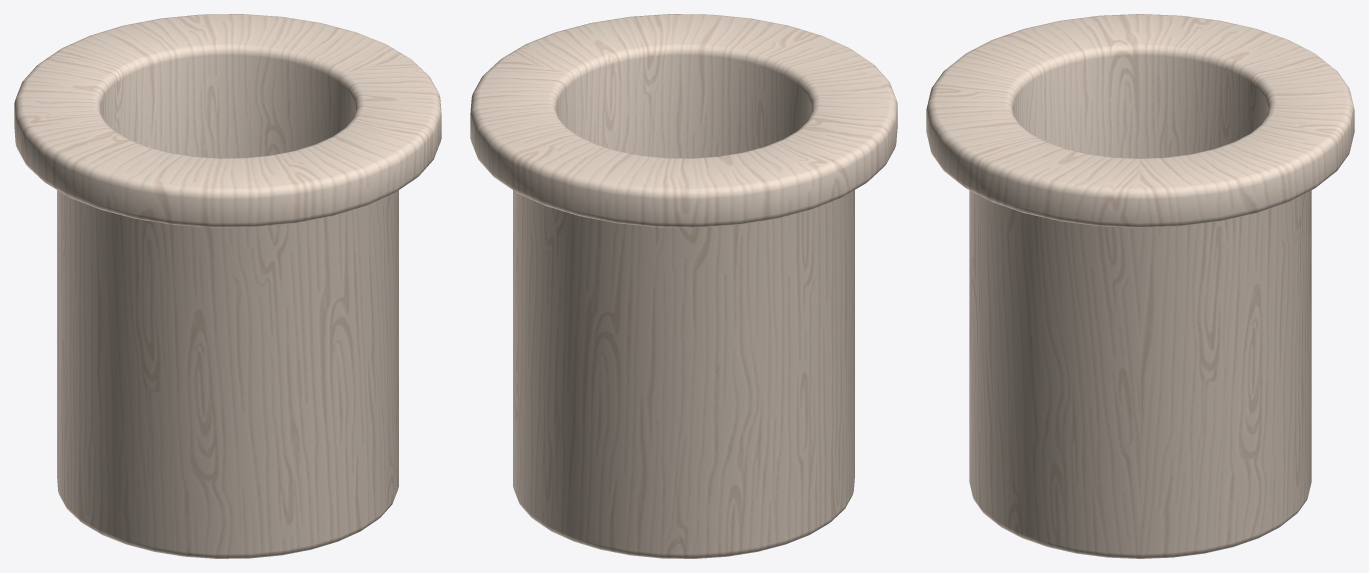
File: Pipe_Straight.fbx
The picture shows the model from 3 angles, left to right: view 1: azimuth 30°, elevation 25°; view 2: azimuth 150°, elevation 25°; view 3: azimuth 270°, elevation 25°; orthographic projection.
Visible parts, largest first — view 1: Cylinder.002; view 2: Cylinder.002; view 3: Cylinder.002.
Part boxes in pixels (<box>): Cylinder.002: <box>14,14,441,558</box>; Cylinder.002: <box>470,14,897,558</box>; Cylinder.002: <box>926,14,1354,558</box>.
Bounding box in the file's own units: 200 × 200 × 200.
1 material, 1 textured.
